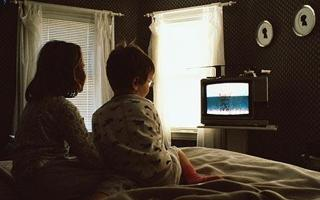person: (92, 47, 223, 186)
